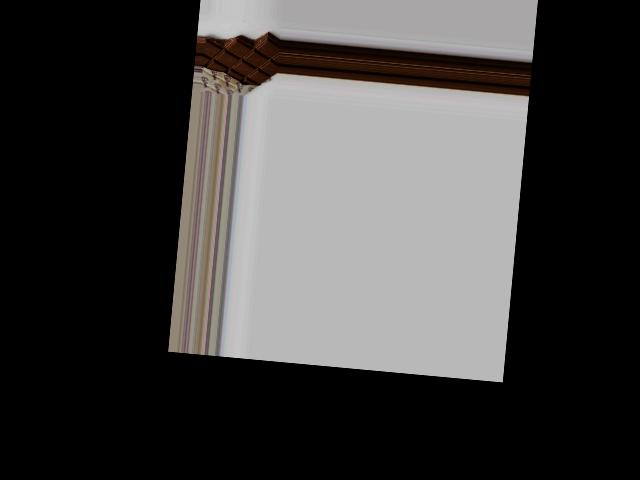chocolate: (199, 32, 279, 98)
